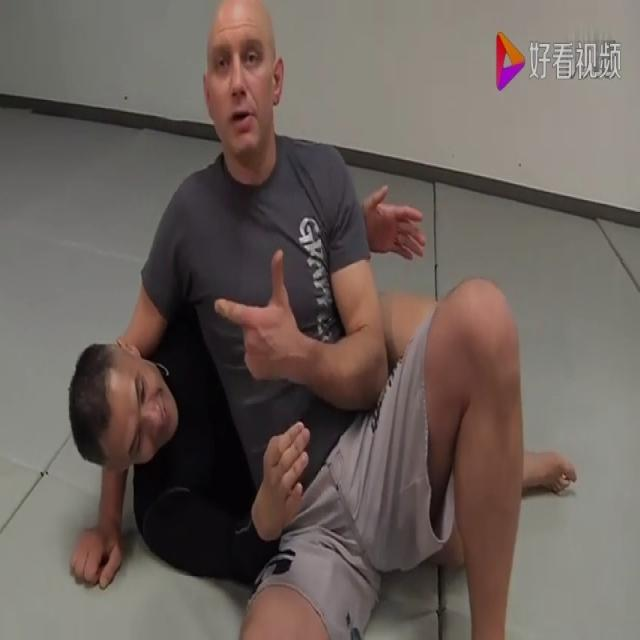fight: (37, 0, 576, 639)
